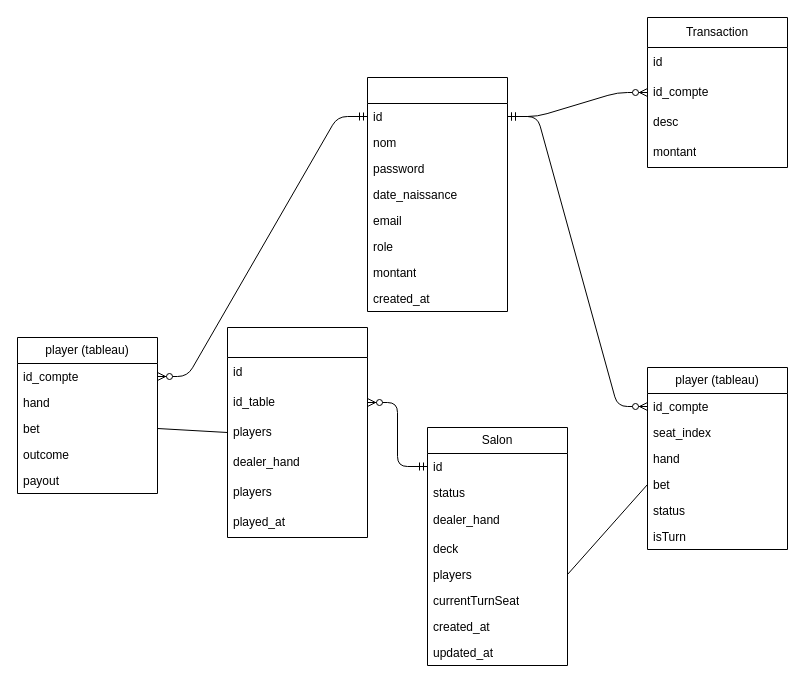
This 805x686 diagram has some shape labels left out. The box of each missing label's shape, as (x1, y1, x2, y2) in pixels:
Compte: (366, 76, 508, 312)
hands: (226, 326, 368, 538)
